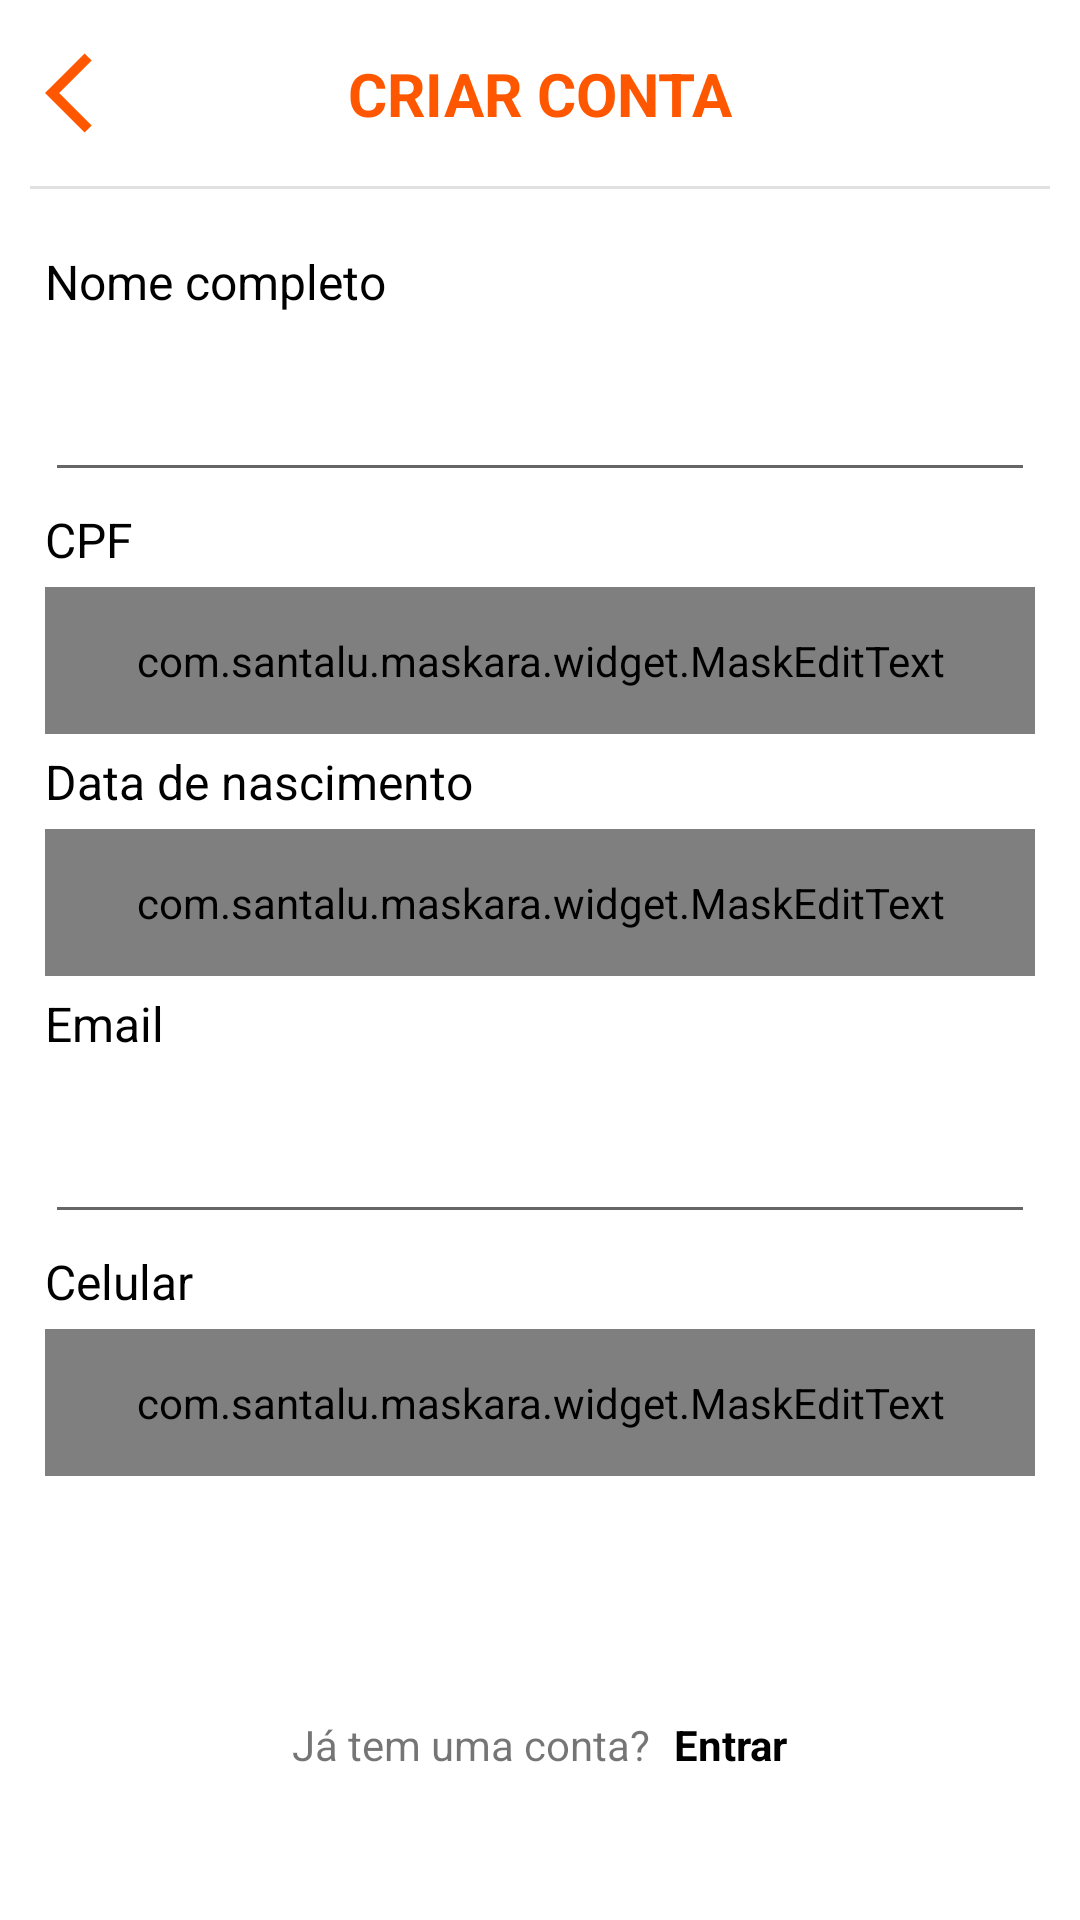

Icons on this 1080×1920 Android screen, each with its box as detection(x1, y1, x2, y2):
back: detection(45, 53, 92, 133)
